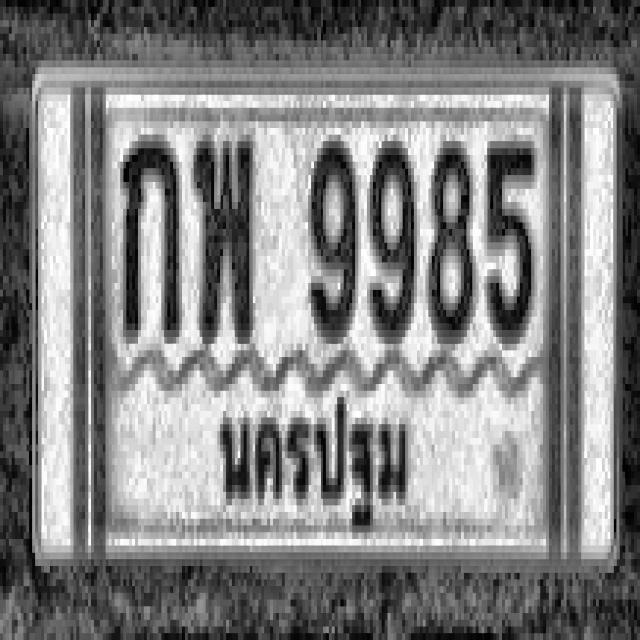license-plate: (22, 48, 625, 589)
